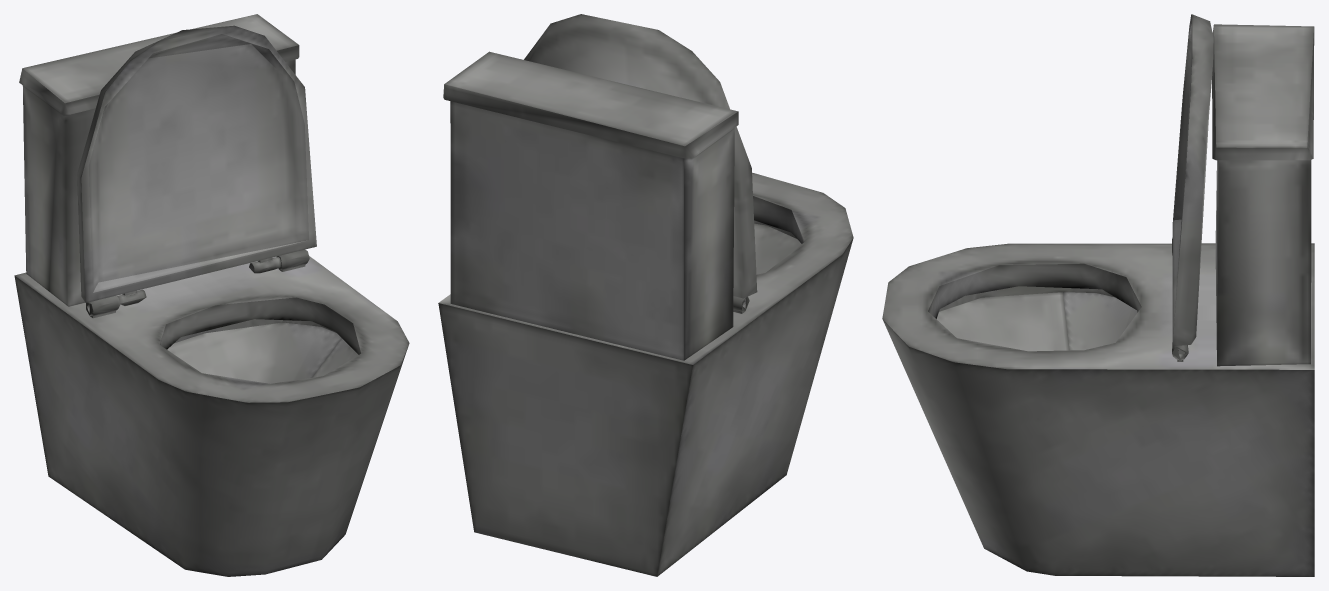
The model's file is bw-toilet.lod0.glb.
3 views of the same model, side by side, from view 1: azimuth 30°, elevation 25°; view 2: azimuth 150°, elevation 25°; view 3: azimuth 270°, elevation 25° (orthographic). The views are drawn at different scales.
Visible parts, largest first — view 1: Prison Toilet_PrisonToilet_MTL_0; view 2: Prison Toilet_PrisonToilet_MTL_0; view 3: Prison Toilet_PrisonToilet_MTL_0.
Boxes of the visible parts, <box> form: Prison Toilet_PrisonToilet_MTL_0: <box>14,14,409,576</box>; Prison Toilet_PrisonToilet_MTL_0: <box>438,14,853,576</box>; Prison Toilet_PrisonToilet_MTL_0: <box>882,14,1314,576</box>.
Bounding box in the file's own units: 0.4592 × 0.8426 × 0.6624.
Materials: 1 (1 with a texture image).
